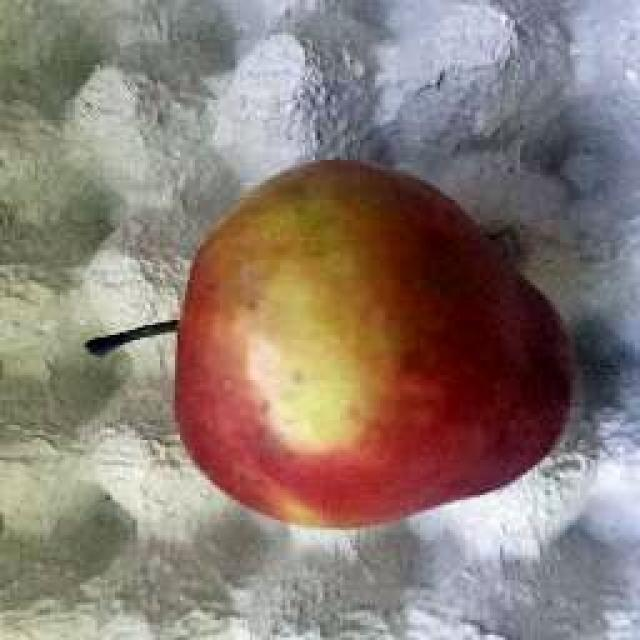Good_Apple: (172, 160, 580, 532)
